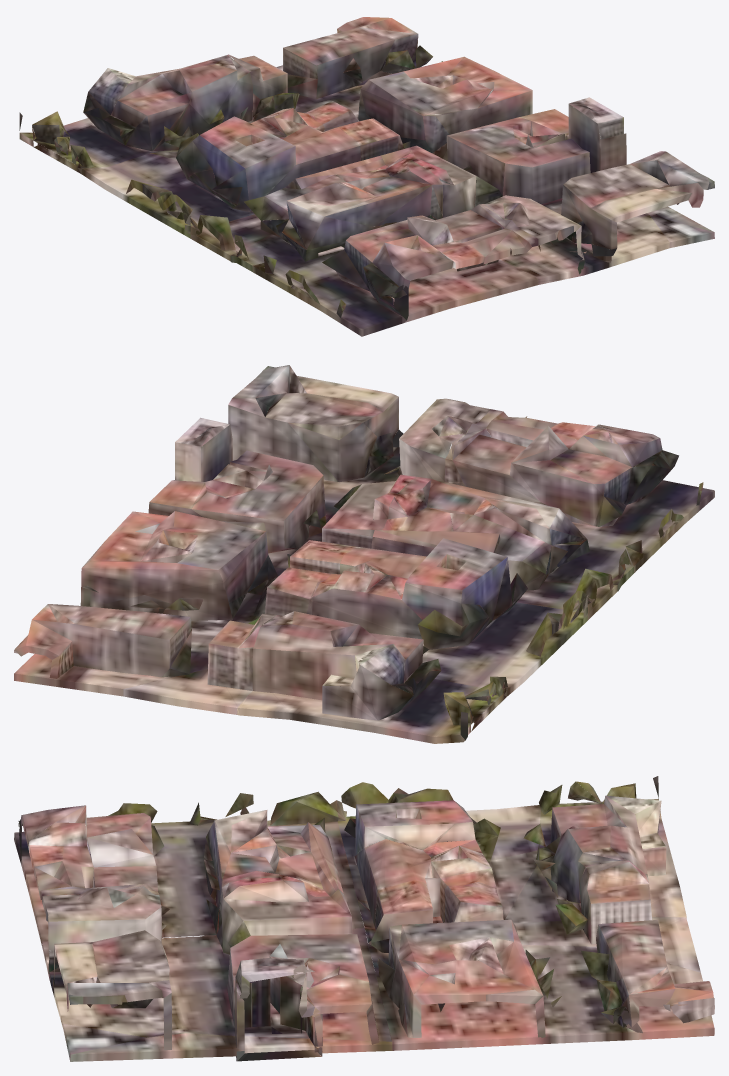
3 views of the same model, one above another, from view 1: azimuth 30°, elevation 25°; view 2: azimuth 150°, elevation 25°; view 3: azimuth 270°, elevation 25° (orthographic). The views are drawn at different scales.
Visible parts, largest first — view 1: Mesh_0; view 2: Mesh_0; view 3: Mesh_0.
Part boxes in pixels (left/top/right/bottom): Mesh_0: left=19, top=17, right=714, bottom=336; Mesh_0: left=14, top=365, right=714, bottom=743; Mesh_0: left=14, top=776, right=714, bottom=1061.
Size of the model in its own units: 270 by 48.67 by 330.
Materials: 2 (2 with a texture image).
